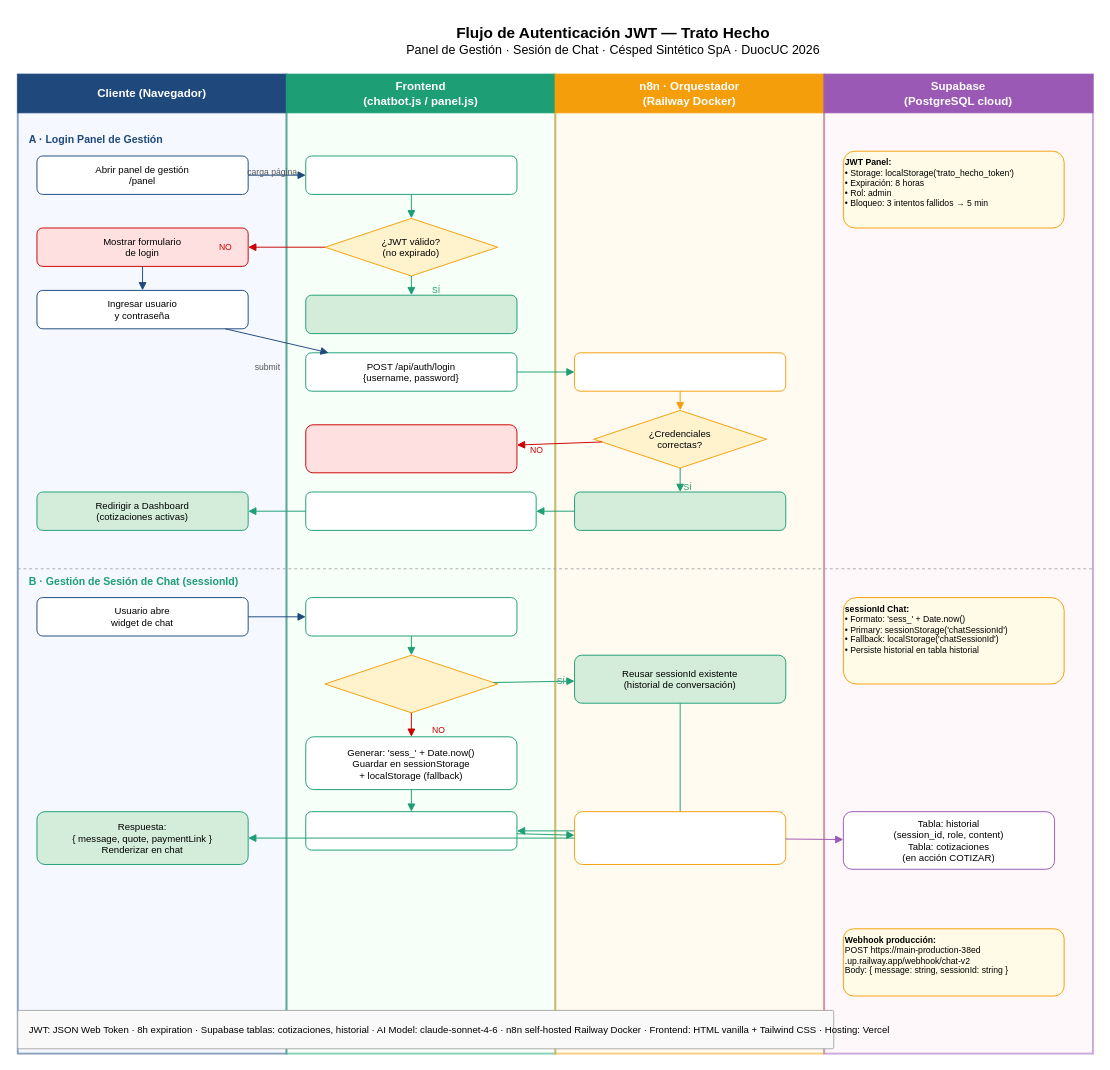
The diagram is 1110 pixels wide and 1070 high, and some of its shapes have lost their labels. The centre of each missing label's shape, as x and y in pixels:
Cargar Dashboard (sesión activa): [411,314]
Generar JWT (exp: 8h, rol: admin): [680,510]
Leer localStorage ('trato_hecho_token'): [411,174]
Leer sessionId sessionStorage → localStorage: [411,616]
n8n procesa mensaje claude-sonnet-4-6 Leer/escribir historial: [680,837]
POST /webhook/chat-v2 { message, sessionId }: [411,830]
Retornar error 401 intento N de 3 (bloqueo 5 min al 3°): [411,448]
Validar credenciales (N8N_USER / N8N_PASS): [680,371]
{ token: JWT, user: {nombre, rol} } → localStorage('trato_hecho_token'): [420,510]
¿sessionId existe?: [411,683]
